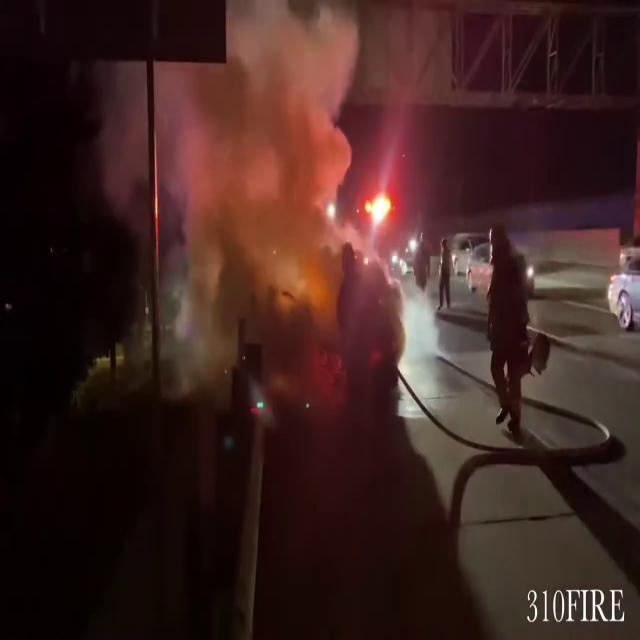Smoke: (86, 1, 374, 370)
